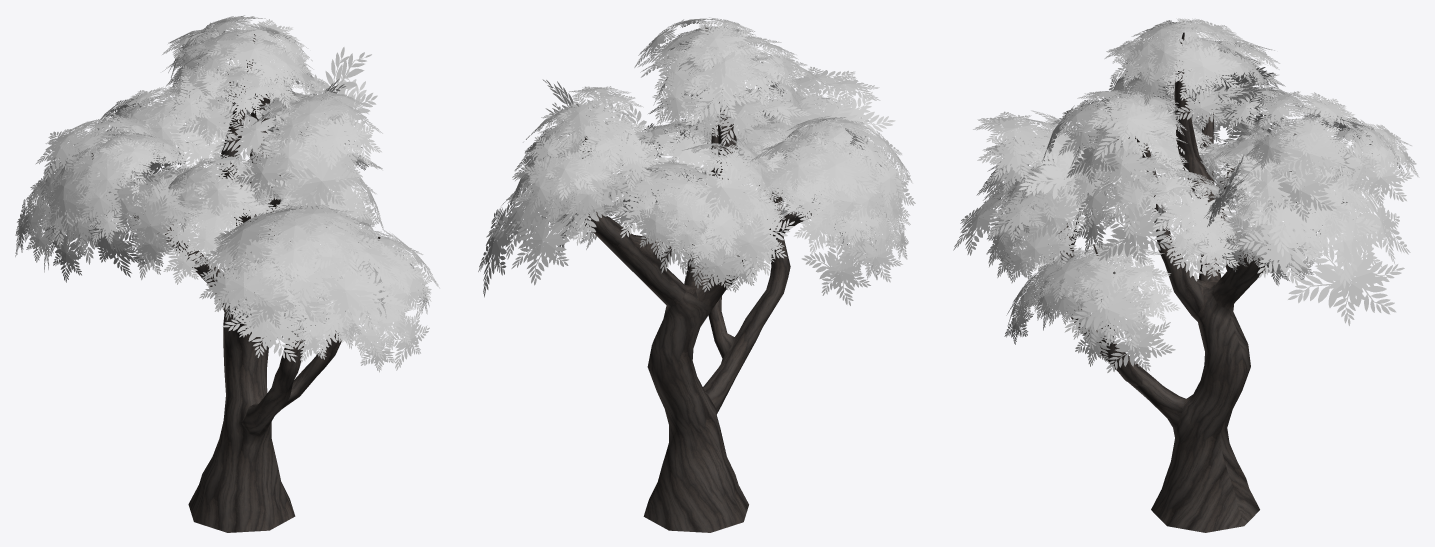
Rendered from tree_02.fbx.
The picture shows the model from 3 angles, left to right: view 1: azimuth 30°, elevation 25°; view 2: azimuth 150°, elevation 25°; view 3: azimuth 270°, elevation 25°; orthographic projection.
Parts seen in each view (by area): view 1: Tree_02_LOD0; view 2: Tree_02_LOD0; view 3: Tree_02_LOD0.
Boxes of the visible parts, left/top/right/bottom form: Tree_02_LOD0: left=15, top=15, right=439, bottom=532; Tree_02_LOD0: left=478, top=17, right=915, bottom=532; Tree_02_LOD0: left=953, top=18, right=1419, bottom=532.
Size of what is drawn, in the model's own units: 18.99 by 23.12 by 20.58.
